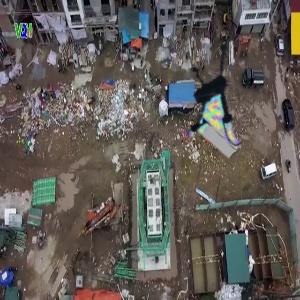drone: (163, 34, 273, 144)
